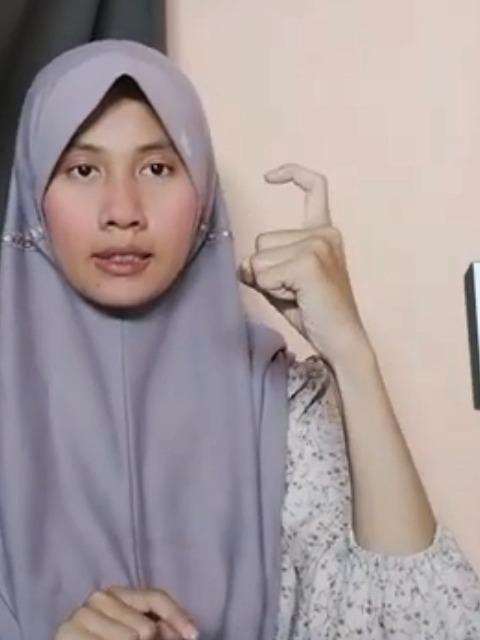X: (230, 162, 374, 364)
